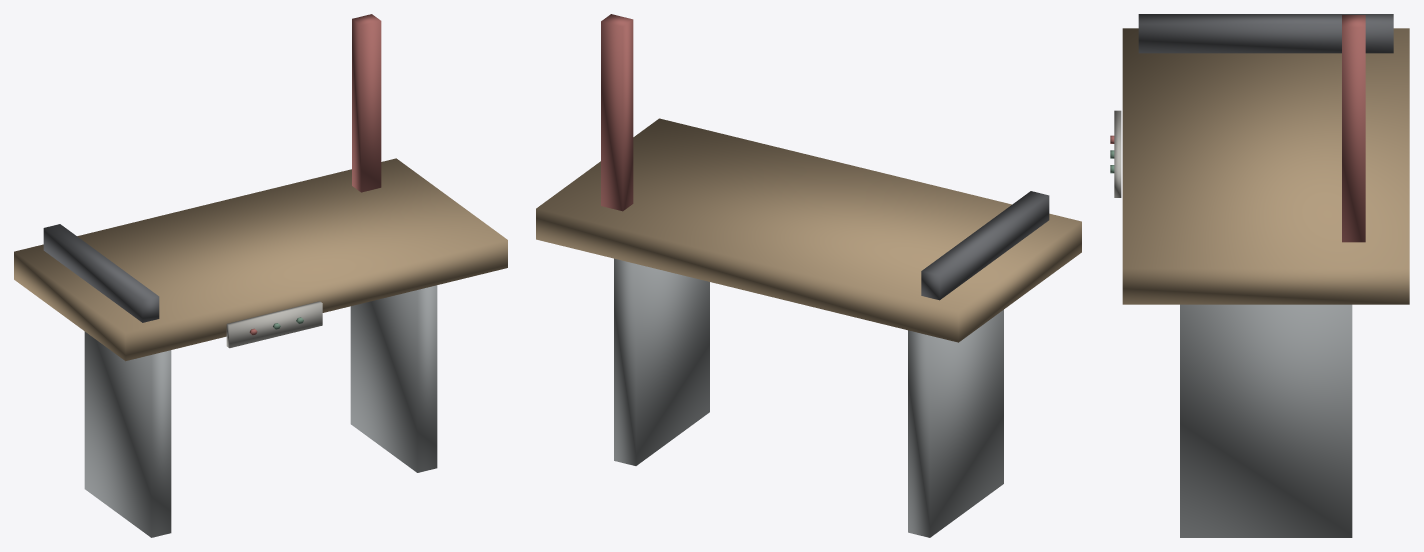
Rendered from paper_cutter__wide.glb.
3 views of the same model, side by side, from view 1: azimuth 30°, elevation 25°; view 2: azimuth 150°, elevation 25°; view 3: azimuth 270°, elevation 25° (orthographic). The views are drawn at different scales.
Parts seen in each view (by area): view 1: world; view 2: world; view 3: world.
Boxes of the visible parts, left/top/right/bottom form: world: left=14, top=14, right=507, bottom=537; world: left=536, top=14, right=1081, bottom=537; world: left=1110, top=14, right=1409, bottom=537.
Bounding box in the file's own units: 1.43 × 1.42 × 0.751.
